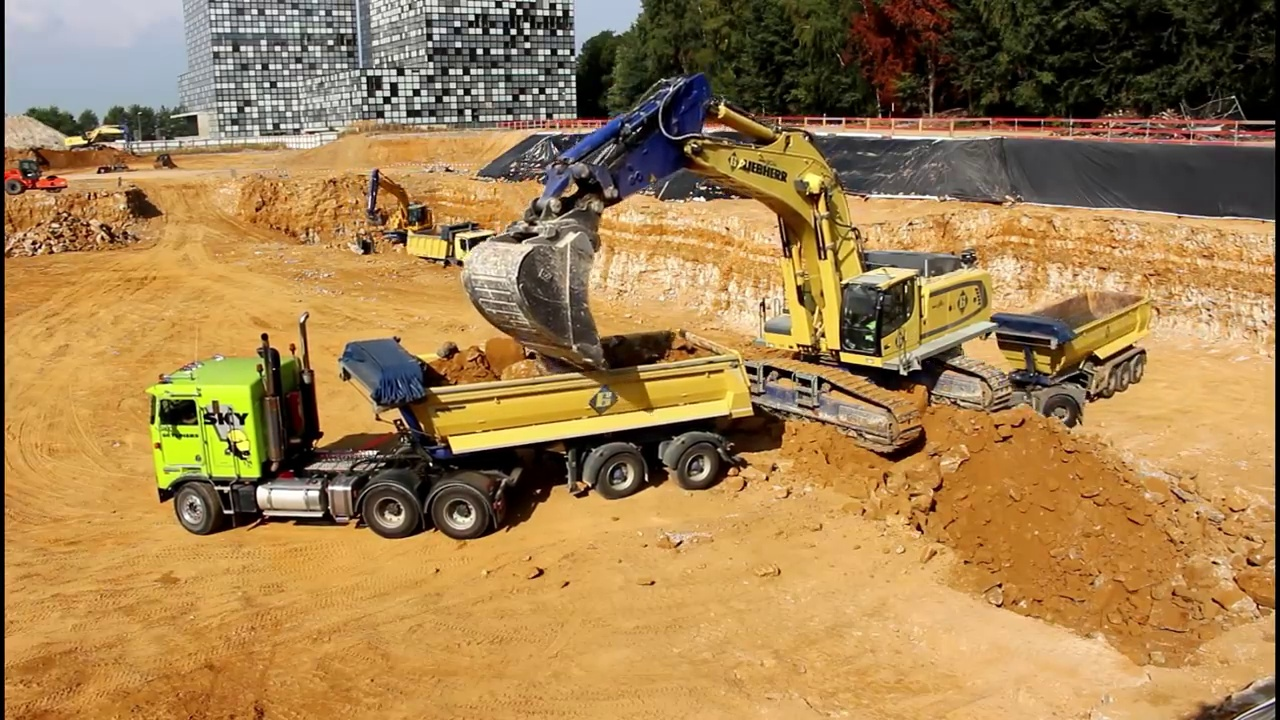compactor: (61, 121, 140, 162), (5, 159, 71, 200)
excavator: (461, 65, 1016, 458), (353, 164, 439, 250)
truck: (142, 310, 760, 543), (878, 289, 1166, 433), (404, 214, 502, 278)
